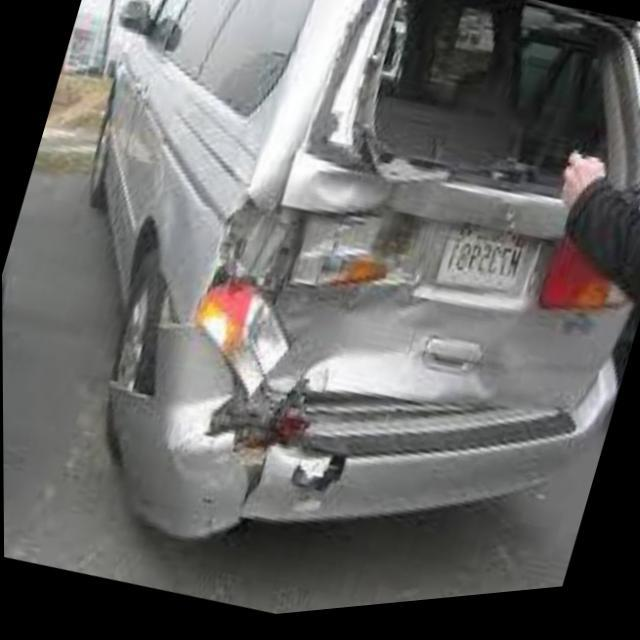dislocated part: (106, 0, 640, 538)
